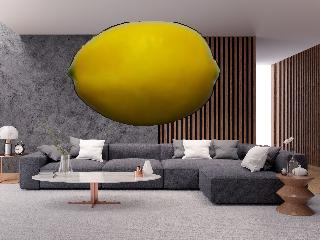lemon: (65, 20, 221, 126)
